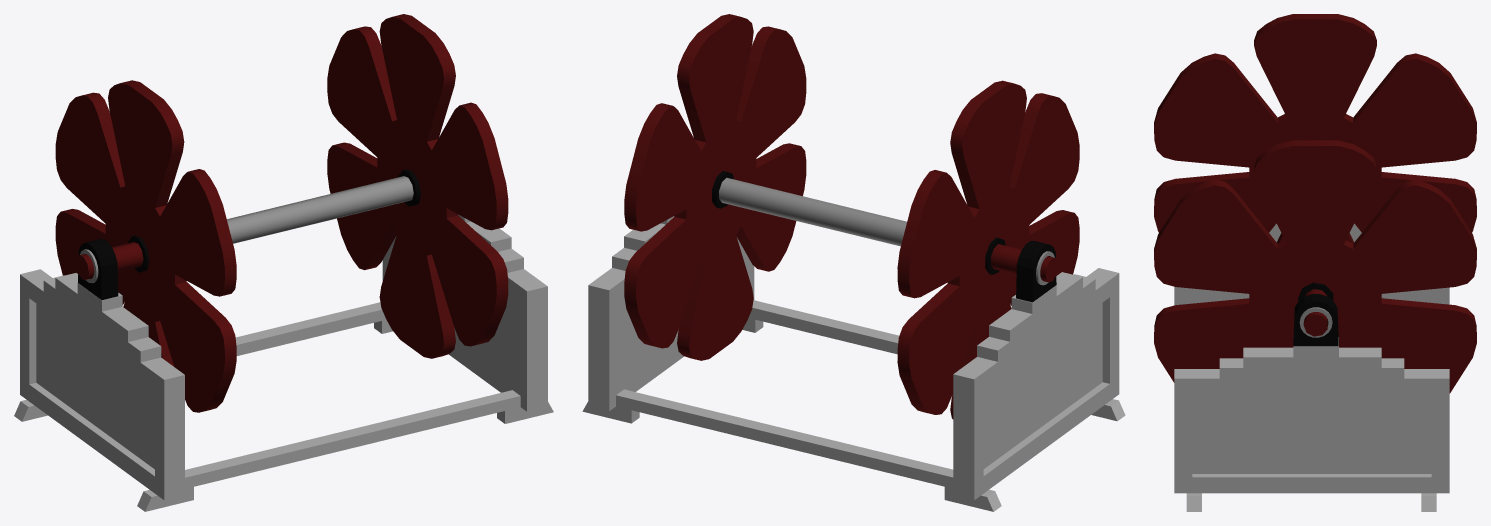
File: SM_ProdLine_turnover.FBX
3 views of the same model, side by side, from view 1: azimuth 30°, elevation 25°; view 2: azimuth 150°, elevation 25°; view 3: azimuth 270°, elevation 25° (orthographic). The views are drawn at different scales.
Parts seen in each view (by area): view 1: SM_ProdLine_turnover_LOD0; view 2: SM_ProdLine_turnover_LOD0; view 3: SM_ProdLine_turnover_LOD0.
Boxes of the visible parts, <box> form: SM_ProdLine_turnover_LOD0: <box>14,14,553,511</box>; SM_ProdLine_turnover_LOD0: <box>582,14,1125,511</box>; SM_ProdLine_turnover_LOD0: <box>1154,14,1476,511</box>.
Size of the model in its own units: 100 by 71.79 by 82.69.
